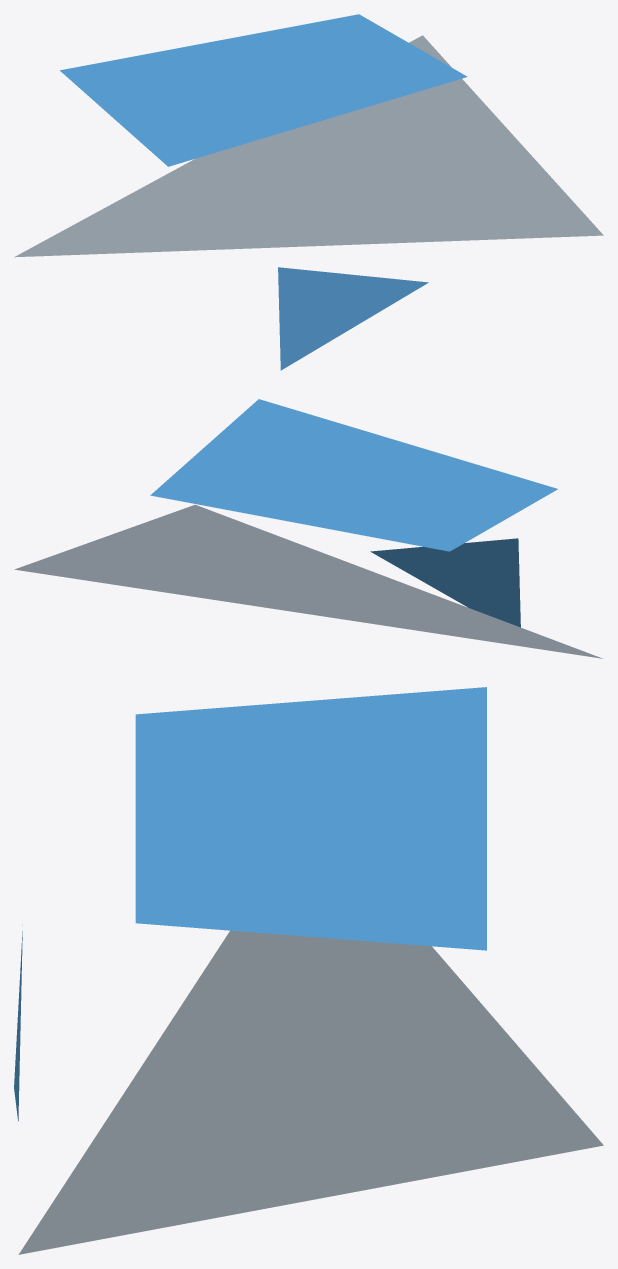
Rendered from AL_CitadelTank_LOD2.glb.
3 views of the same model, one above another, from view 1: azimuth 30°, elevation 25°; view 2: azimuth 150°, elevation 25°; view 3: azimuth 270°, elevation 25° (orthographic). The views are drawn at different scales.
Visible parts, largest first — view 1: EntranceGate; view 2: EntranceGate; view 3: EntranceGate.
Boxes of the visible parts, left/top/right/bottom form: EntranceGate: left=14, top=14, right=603, bottom=370; EntranceGate: left=14, top=399, right=603, bottom=658; EntranceGate: left=14, top=687, right=603, bottom=1254.
Bounding box in the file's own units: 700 × 283 × 443.
